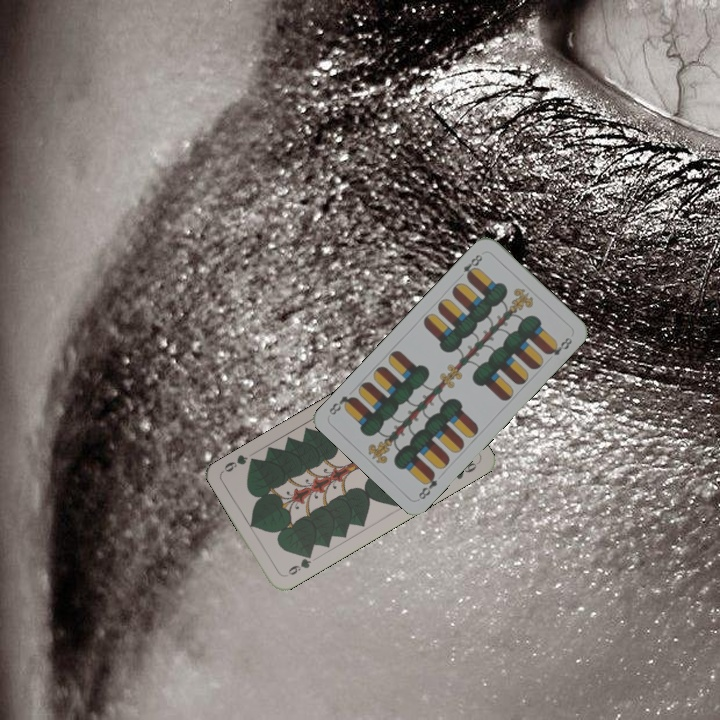E8: (454, 250, 485, 282), (414, 468, 440, 502)
G9: (281, 549, 315, 580)
